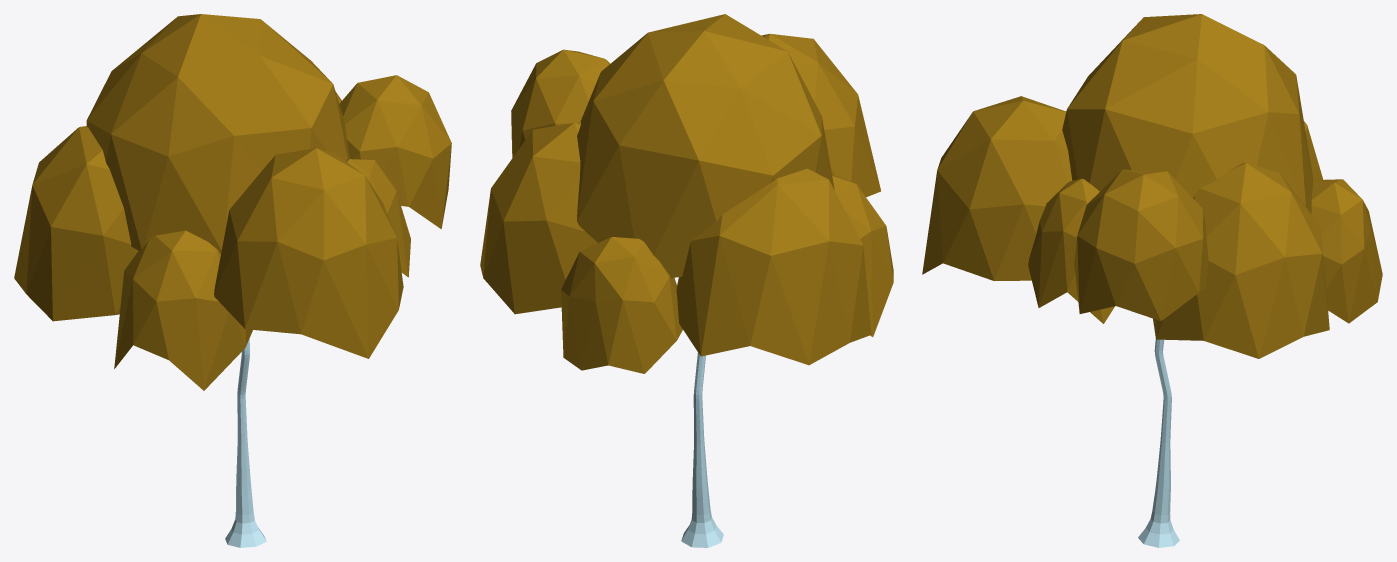
Rendered from BirchTree_1b.fbx.
3 views of the same model, side by side, from view 1: azimuth 30°, elevation 25°; view 2: azimuth 150°, elevation 25°; view 3: azimuth 270°, elevation 25° (orthographic). The views are drawn at different scales.
Parts seen in each view (by area): view 1: Icosphere; view 2: Icosphere; view 3: Icosphere.
Part boxes in pixels (left/top/right/bottom): Icosphere: left=14, top=14, right=451, bottom=547; Icosphere: left=480, top=14, right=893, bottom=547; Icosphere: left=922, top=14, right=1382, bottom=547.
Size of the model in its own units: 359 by 481 by 390.
